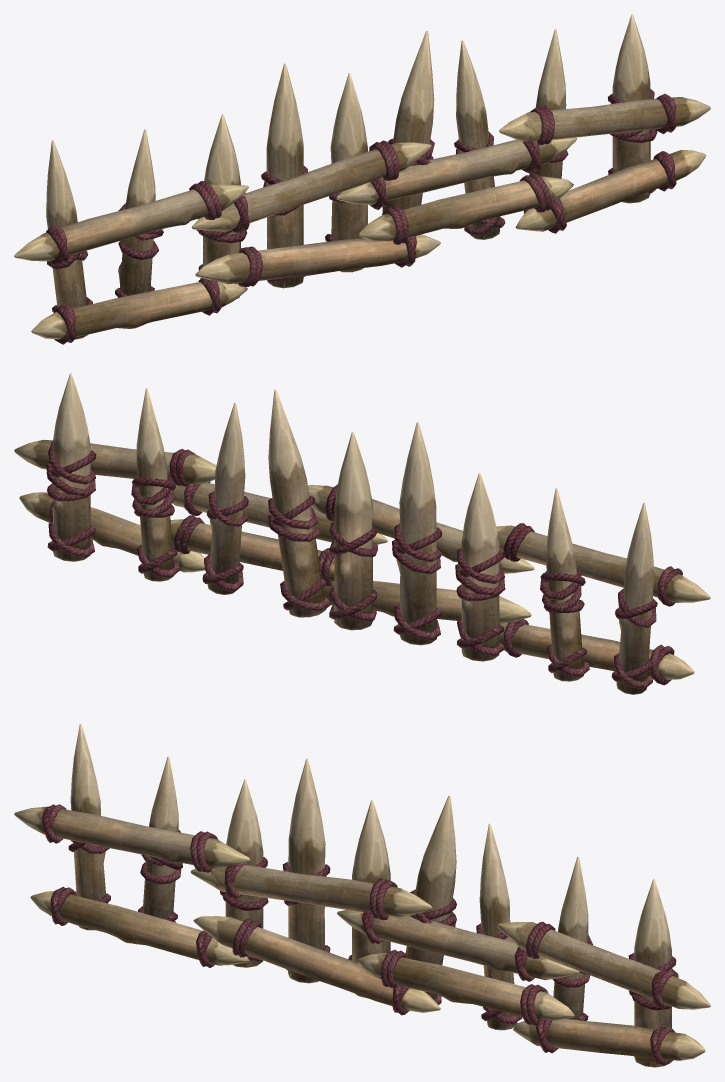
3 renders of one model, top to bottom at view 1: azimuth 30°, elevation 25°; view 2: azimuth 150°, elevation 25°; view 3: azimuth 330°, elevation 25°, orthographic.
Visible parts, largest first — view 1: SM_Garou_Set_SM_SpikeFence_01_4x8_LOD0; view 2: SM_Garou_Set_SM_SpikeFence_01_4x8_LOD0; view 3: SM_Garou_Set_SM_SpikeFence_01_4x8_LOD0.
Boxes of the visible parts, x1,y1,x2,y2 form: SM_Garou_Set_SM_SpikeFence_01_4x8_LOD0: (14, 14, 710, 344); SM_Garou_Set_SM_SpikeFence_01_4x8_LOD0: (14, 373, 710, 694); SM_Garou_Set_SM_SpikeFence_01_4x8_LOD0: (14, 723, 710, 1067).
Bounding box in the file's own units: 4.58 × 1.39 × 0.3968.
